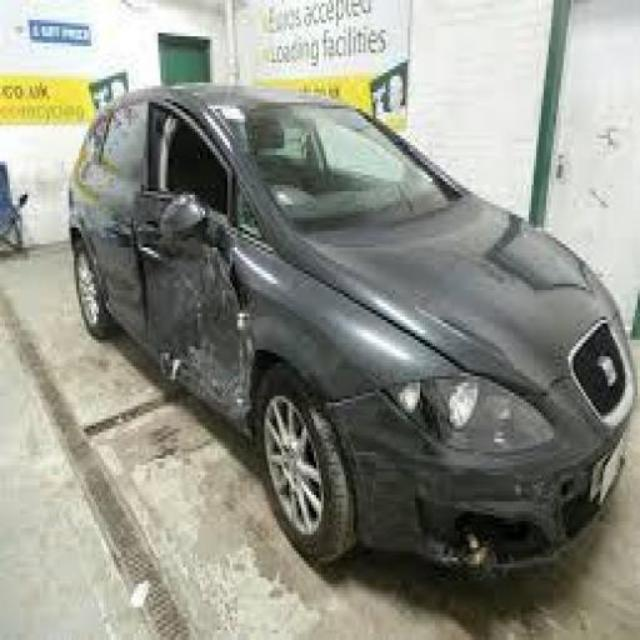dent: (137, 224, 245, 404)
dislocated part: (160, 193, 211, 236)
glass shatter: (148, 104, 229, 219)
